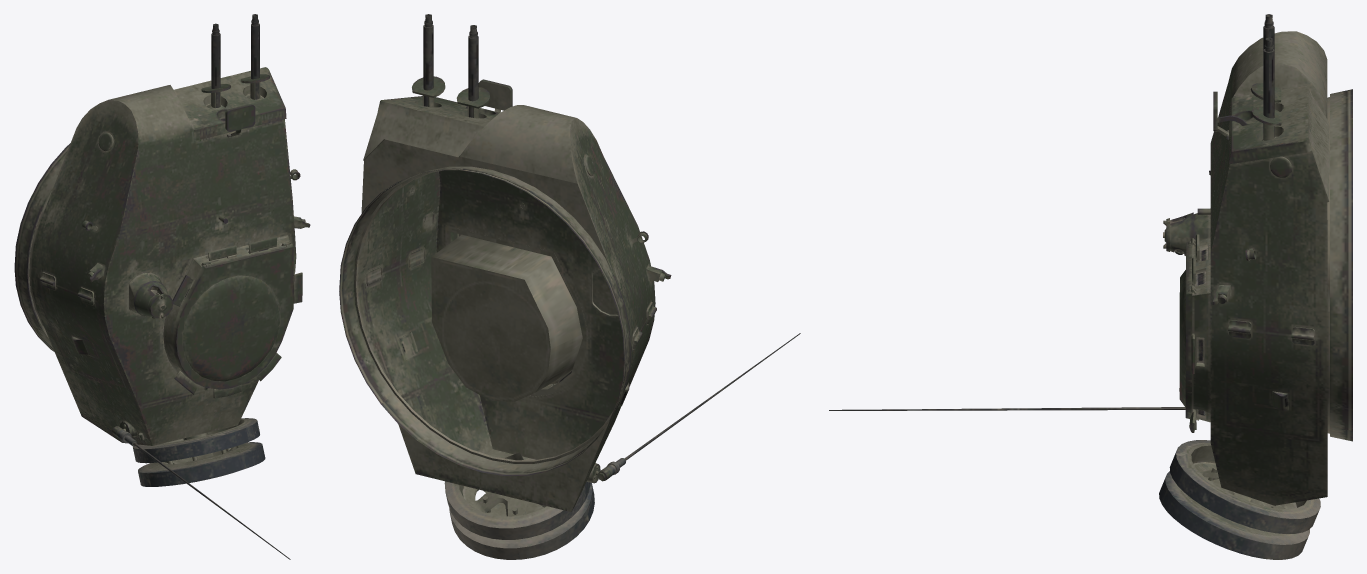
File: Turret_02.glb
3 views of the same model, side by side, from view 1: azimuth 30°, elevation 25°; view 2: azimuth 150°, elevation 25°; view 3: azimuth 270°, elevation 25° (orthographic). The views are drawn at different scales.
Parts seen in each view (by area): view 1: set_0_group_0; view 2: set_0_group_0; view 3: set_0_group_0.
Boxes of the visible parts, box(x1,y1,x2,y2) form: set_0_group_0: box(14, 14, 310, 559); set_0_group_0: box(339, 14, 800, 559); set_0_group_0: box(829, 14, 1352, 559).
Size of the model in its own units: 1.41 by 2.42 by 2.1.
1 material, 1 textured.
